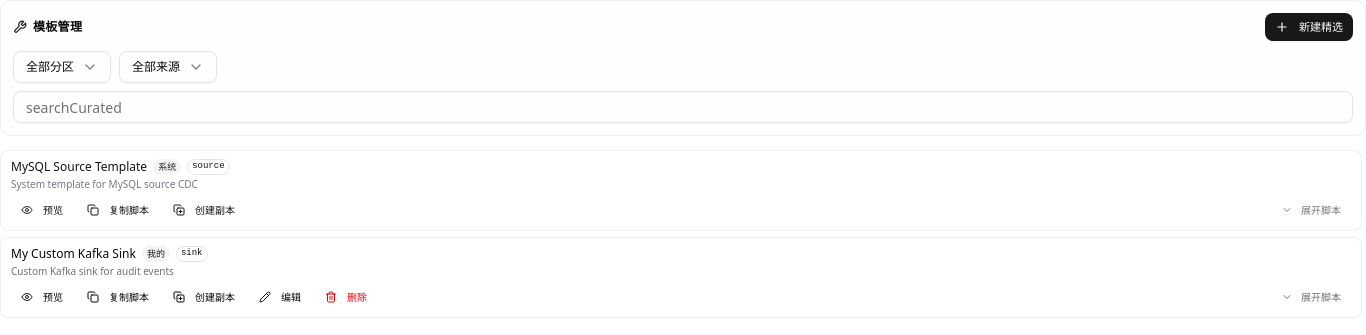
Scenario: CuratedTemplatesManagePanel › opens the read-only hint from the builtin origin badge via keyboard focus
Expected: the text "MySQL Source Template" is shown, [11,159,147,175]
Expected: the text "系统模板只读，创建副本后可编辑" is not shown
Focus the button "系统" at {"x": 167, "y": 167}, box [153,159,181,175]
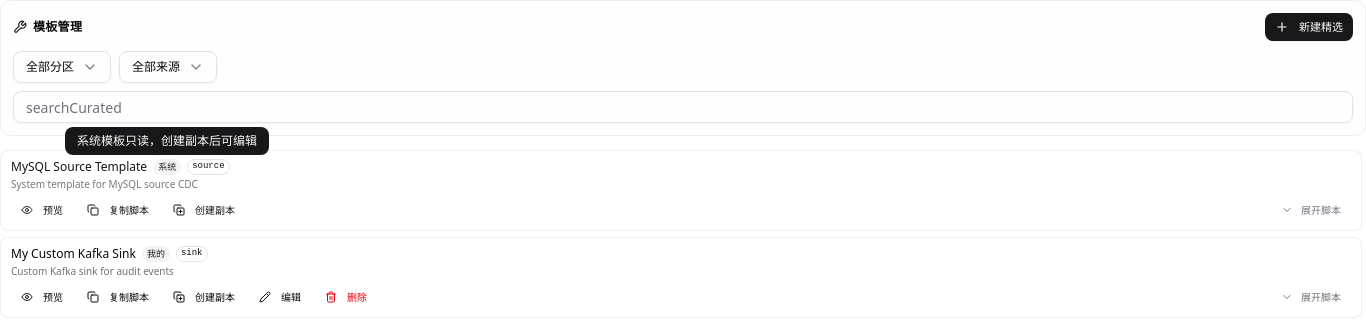
Expected: the tooltip "系统模板只读，创建副本后可编辑" is shown, [65,127,269,155]
